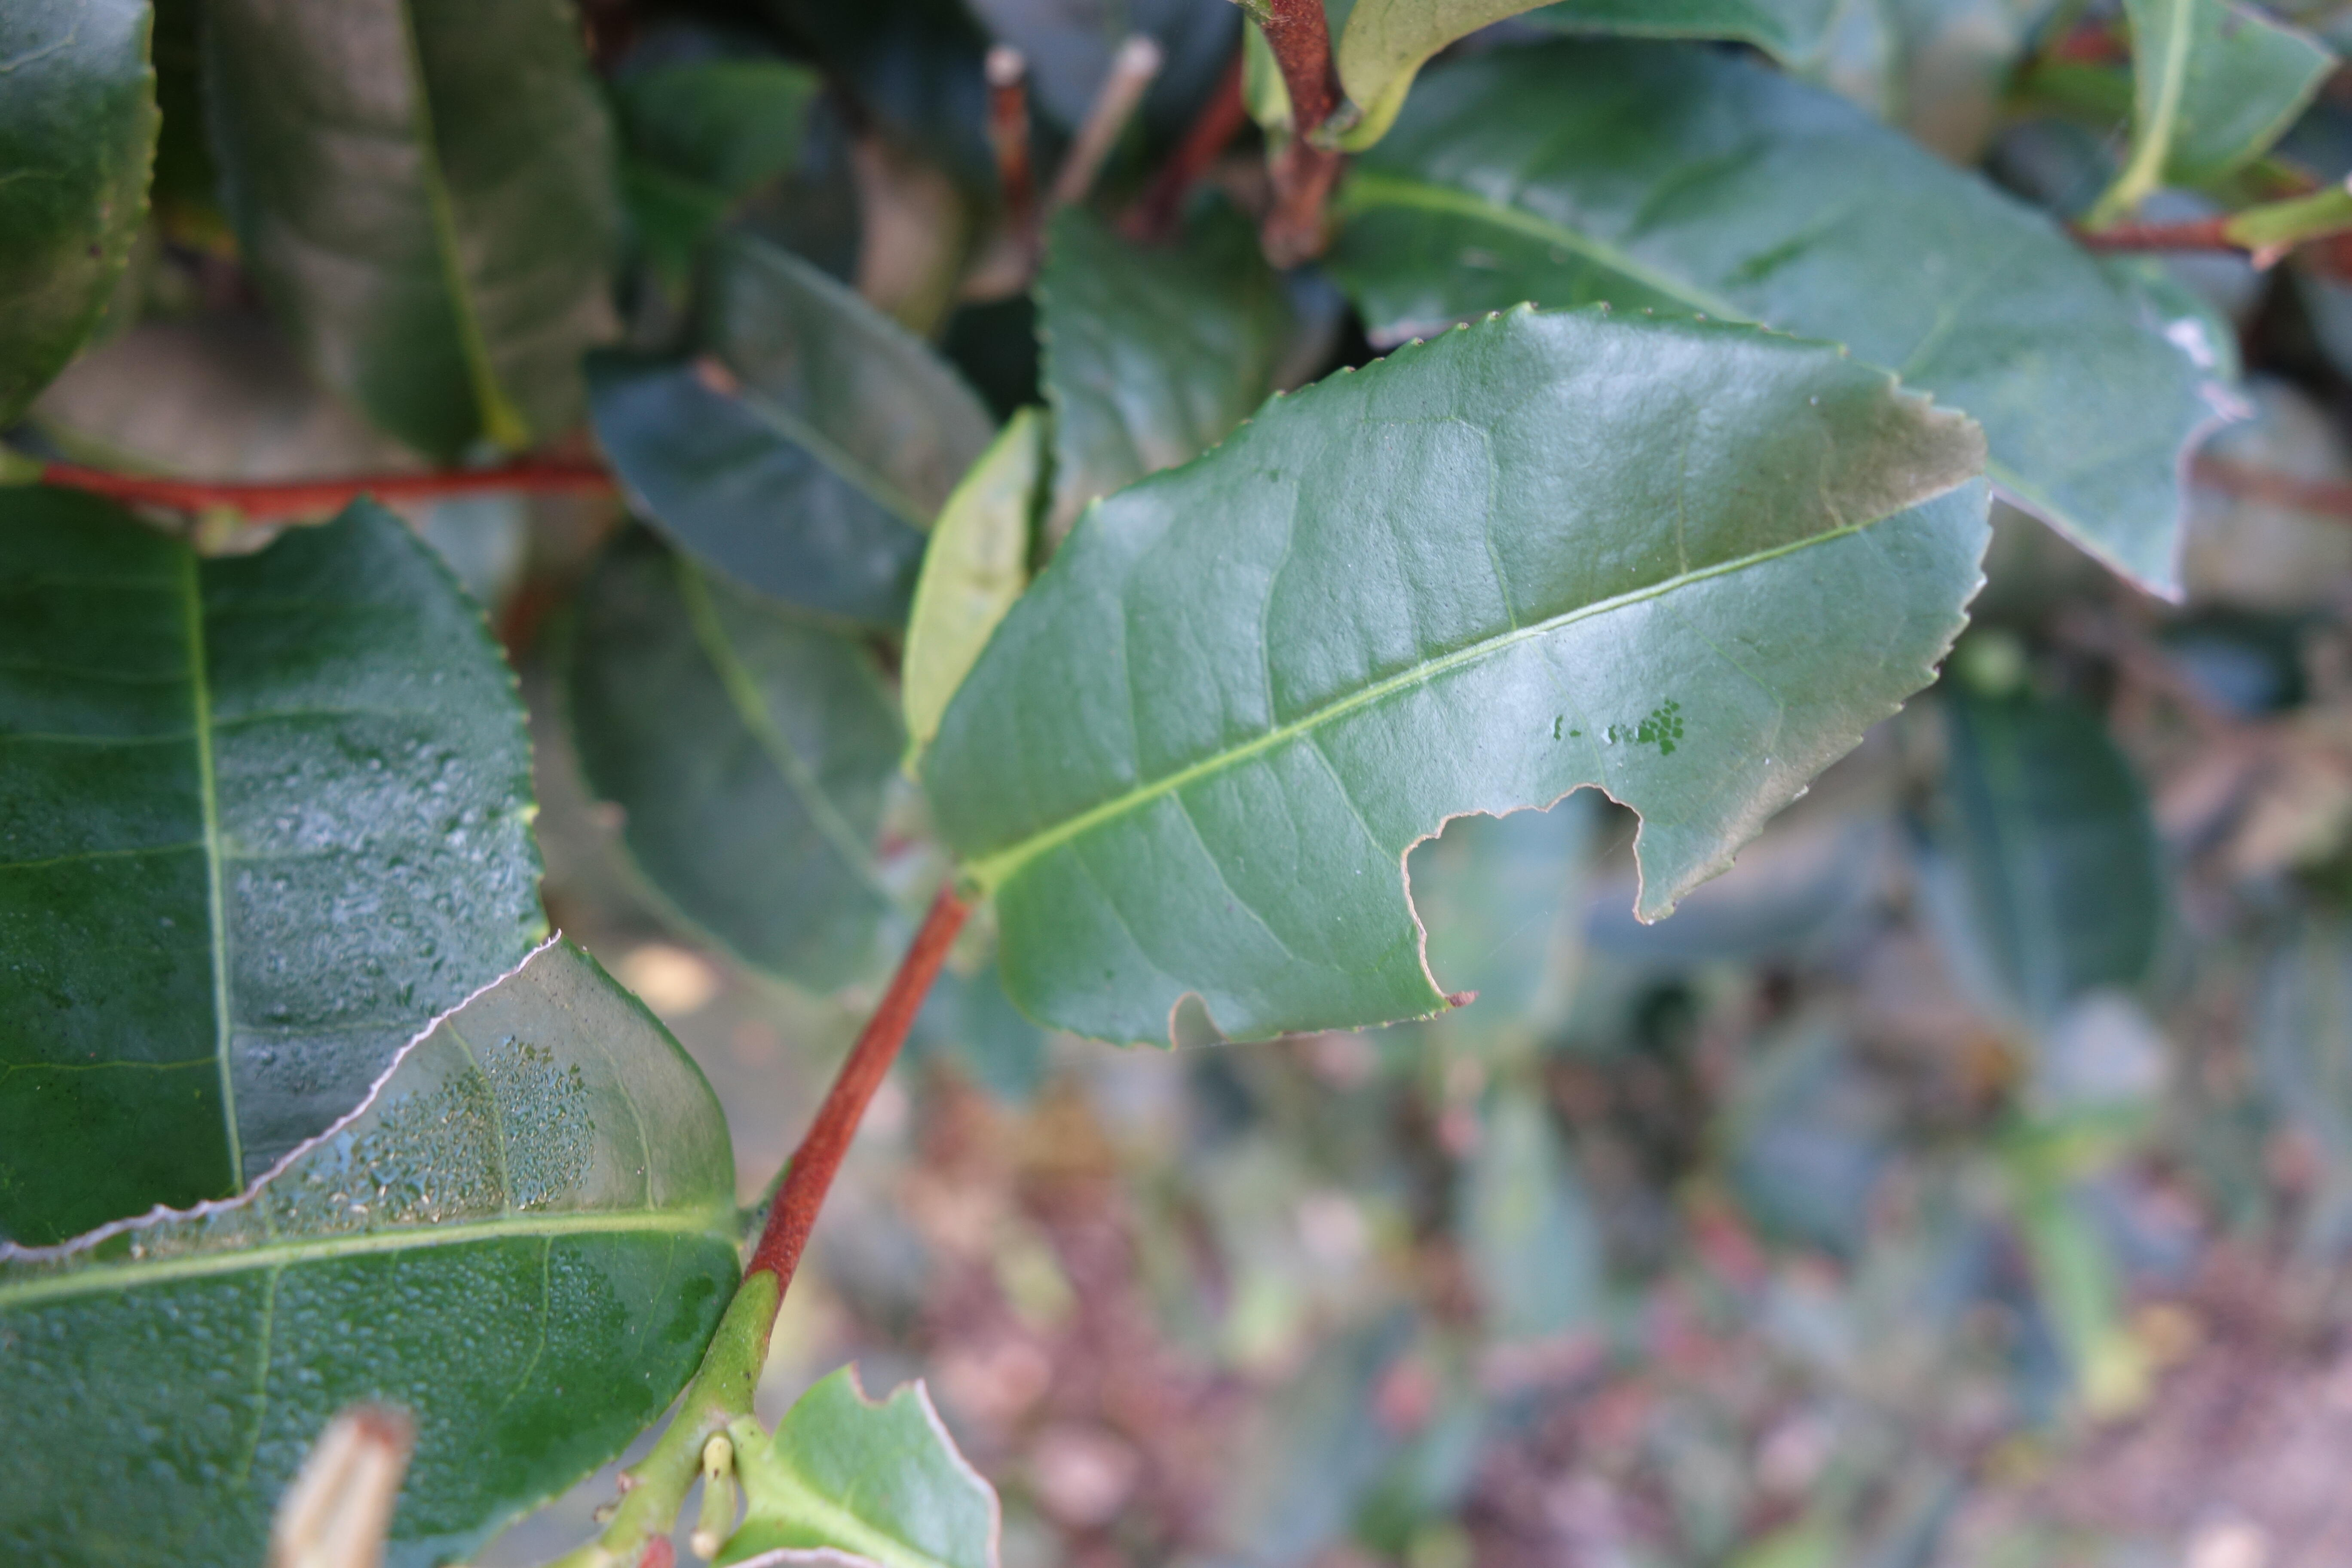chihuo_high: (910, 299, 2000, 1050), (0, 933, 756, 1564)
